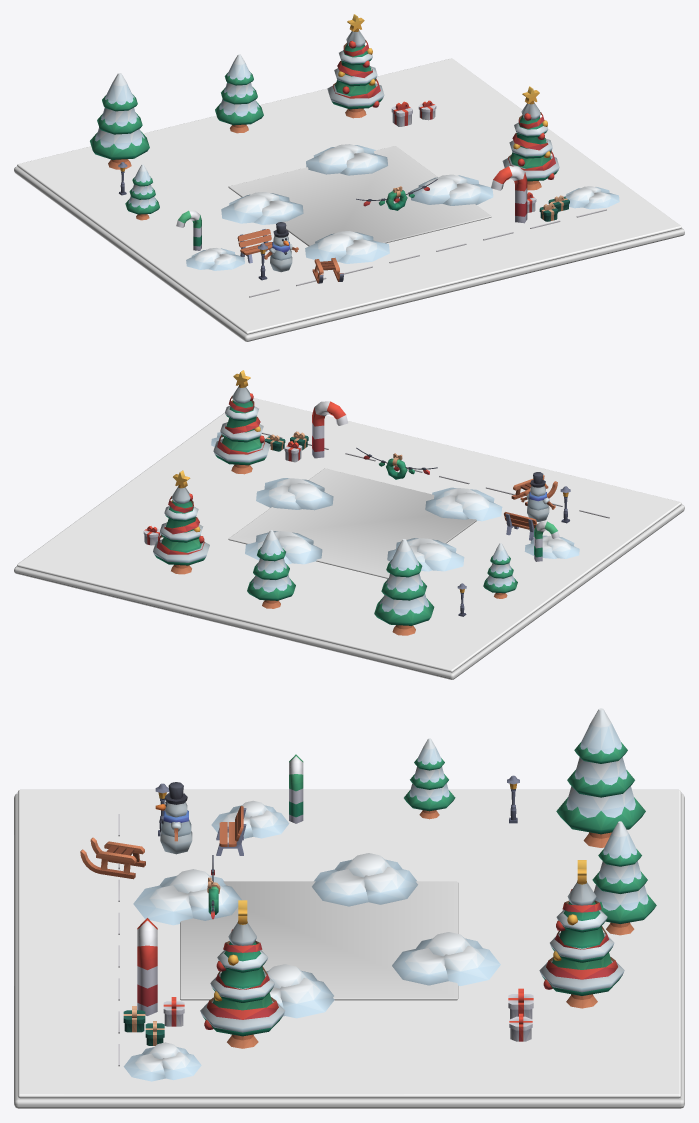
Rendered from ida-city.glb.
3 renders of one model, top to bottom at view 1: azimuth 30°, elevation 25°; view 2: azimuth 150°, elevation 25°; view 3: azimuth 270°, elevation 25°, orthographic. The views are drawn at different scales.
Visible parts, largest first — view 1: Snow, Holiday, Ground, Structure; view 2: Snow, Holiday, Ground; view 3: Snow, Holiday, Ground.
Boxes of the visible parts, x1,y1,x2,y2 form: Snow: (17, 58, 681, 334); Holiday: (90, 14, 619, 283); Ground: (14, 146, 684, 341); Structure: (249, 209, 606, 297); Snow: (17, 398, 681, 672); Holiday: (143, 370, 579, 635); Ground: (14, 468, 684, 679); Snow: (17, 789, 681, 1098); Holiday: (80, 708, 656, 1081); Ground: (14, 793, 684, 1108).
Bounding box in the file's own units: 9.6 × 2.27 × 8.8.
